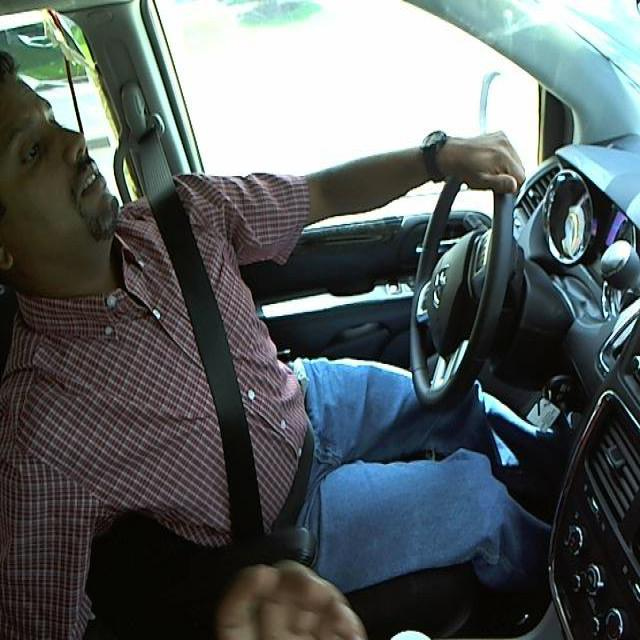seatbelt: (151, 226, 256, 542)
